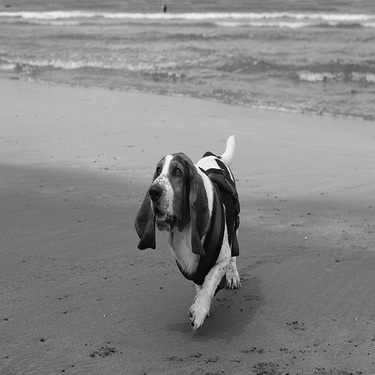dog: (126, 121, 247, 336)
